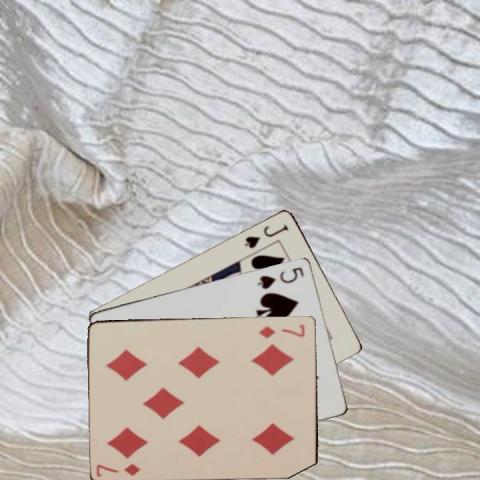5s: (254, 263, 306, 290)
7d: (256, 322, 307, 340), (93, 460, 142, 477)
Js: (241, 220, 290, 250)
